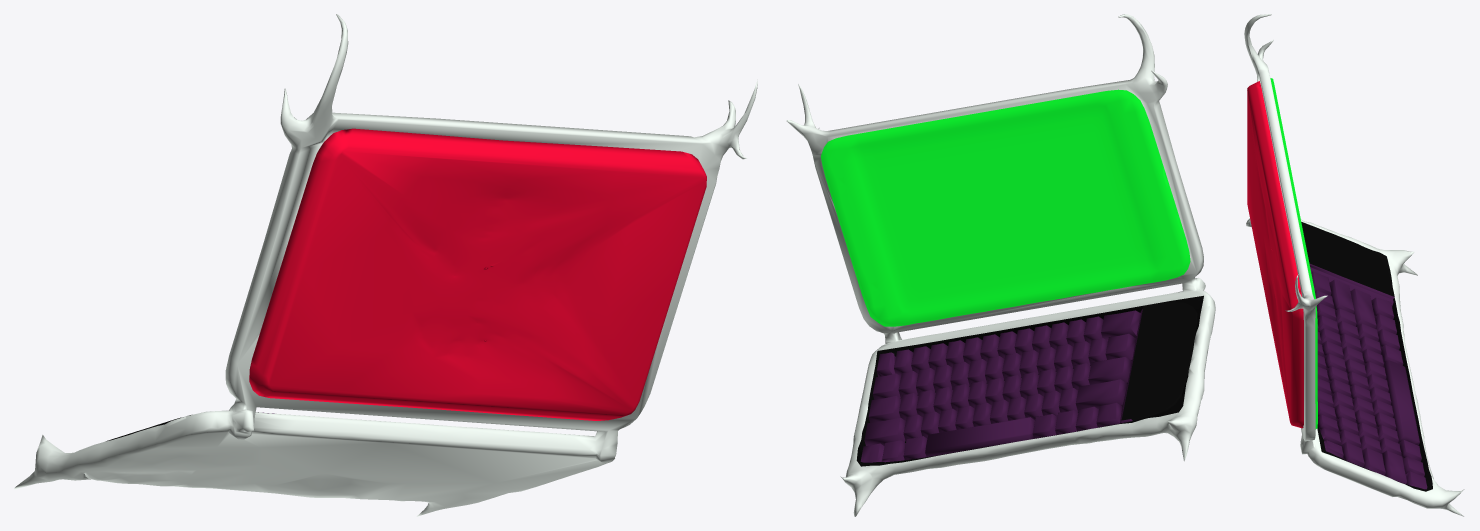
File: PIXY3.glb
3 views of the same model, side by side, from view 1: azimuth 30°, elevation 25°; view 2: azimuth 150°, elevation 25°; view 3: azimuth 270°, elevation 25° (orthographic). The views are drawn at different scales.
Parts seen in each view (by area): view 1: U.002; view 2: U.002; view 3: U.002.
Part boxes in pixels (bbox=[...]): U.002: bbox=[14, 14, 757, 516]; U.002: bbox=[786, 14, 1215, 516]; U.002: bbox=[1244, 14, 1464, 516].
Bounding box in the file's own units: 7.93 × 7.78 × 3.63.
Materials: 4 (4 with a texture image).
